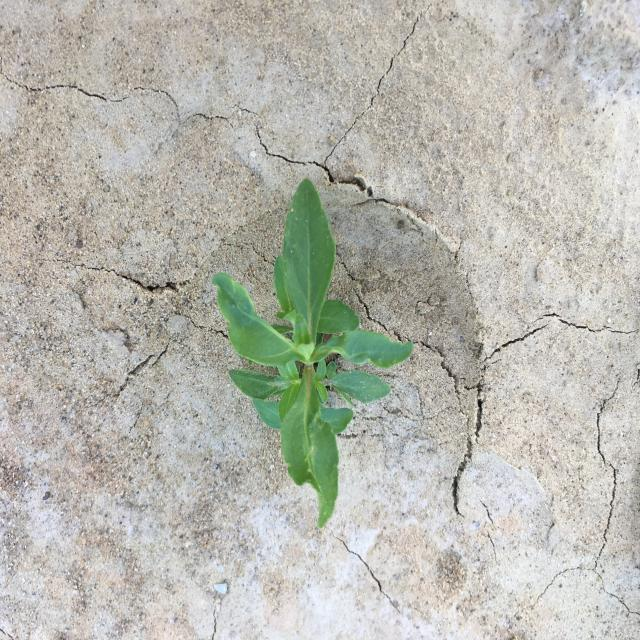Eclipta: (212, 178, 413, 531)
